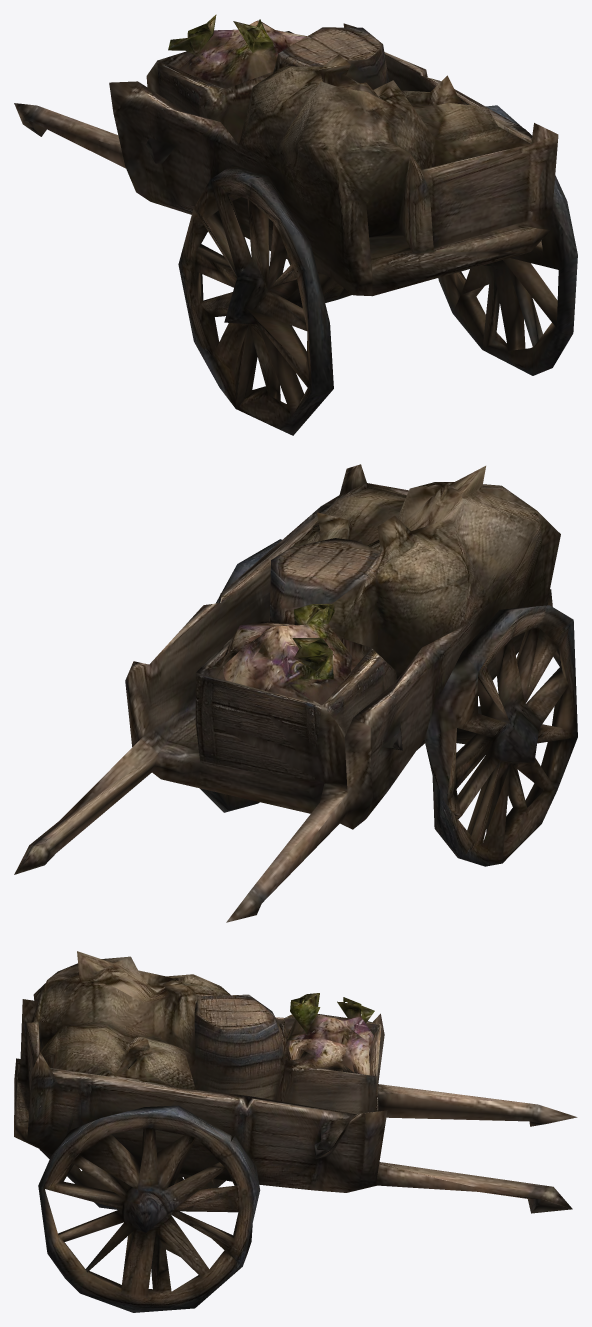
File: cart.glb
The picture shows the model from 3 angles, top to bottom: view 1: azimuth 30°, elevation 25°; view 2: azimuth 150°, elevation 25°; view 3: azimuth 270°, elevation 25°; orthographic projection. The views are drawn at different scales.
Visible parts, largest first — view 1: tripo_node_3aea78a1-d86b-4334-bf33-aad9d4f7ec7d; view 2: tripo_node_3aea78a1-d86b-4334-bf33-aad9d4f7ec7d; view 3: tripo_node_3aea78a1-d86b-4334-bf33-aad9d4f7ec7d.
Part boxes in pixels (bbox=[...]): tripo_node_3aea78a1-d86b-4334-bf33-aad9d4f7ec7d: bbox=[14, 14, 577, 435]; tripo_node_3aea78a1-d86b-4334-bf33-aad9d4f7ec7d: bbox=[14, 464, 577, 922]; tripo_node_3aea78a1-d86b-4334-bf33-aad9d4f7ec7d: bbox=[14, 951, 577, 1312].
Size of the model in its own units: 0.516 by 0.5606 by 1.
1 material, 1 textured.
